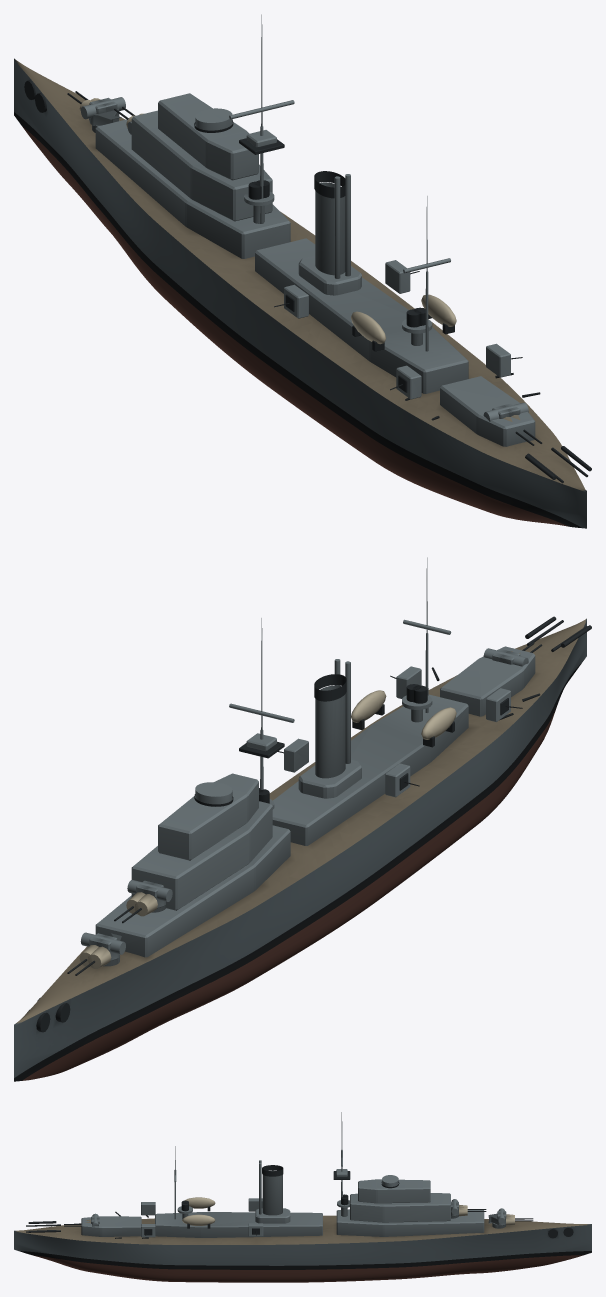
File: hms-stork.glb
The picture shows the model from 3 angles, top to bottom: view 1: azimuth 30°, elevation 25°; view 2: azimuth 150°, elevation 25°; view 3: azimuth 270°, elevation 25°; orthographic projection. The views are drawn at different scales.
Visible parts, largest first — view 1: hms-stork; view 2: hms-stork; view 3: hms-stork.
Part boxes in pixels (left/top/right/bottom): hms-stork: left=14, top=14, right=591, bottom=528; hms-stork: left=14, top=557, right=591, bottom=1081; hms-stork: left=14, top=1112, right=591, bottom=1282.
Size of the model in its own units: 12.59 by 26.65 by 86.
